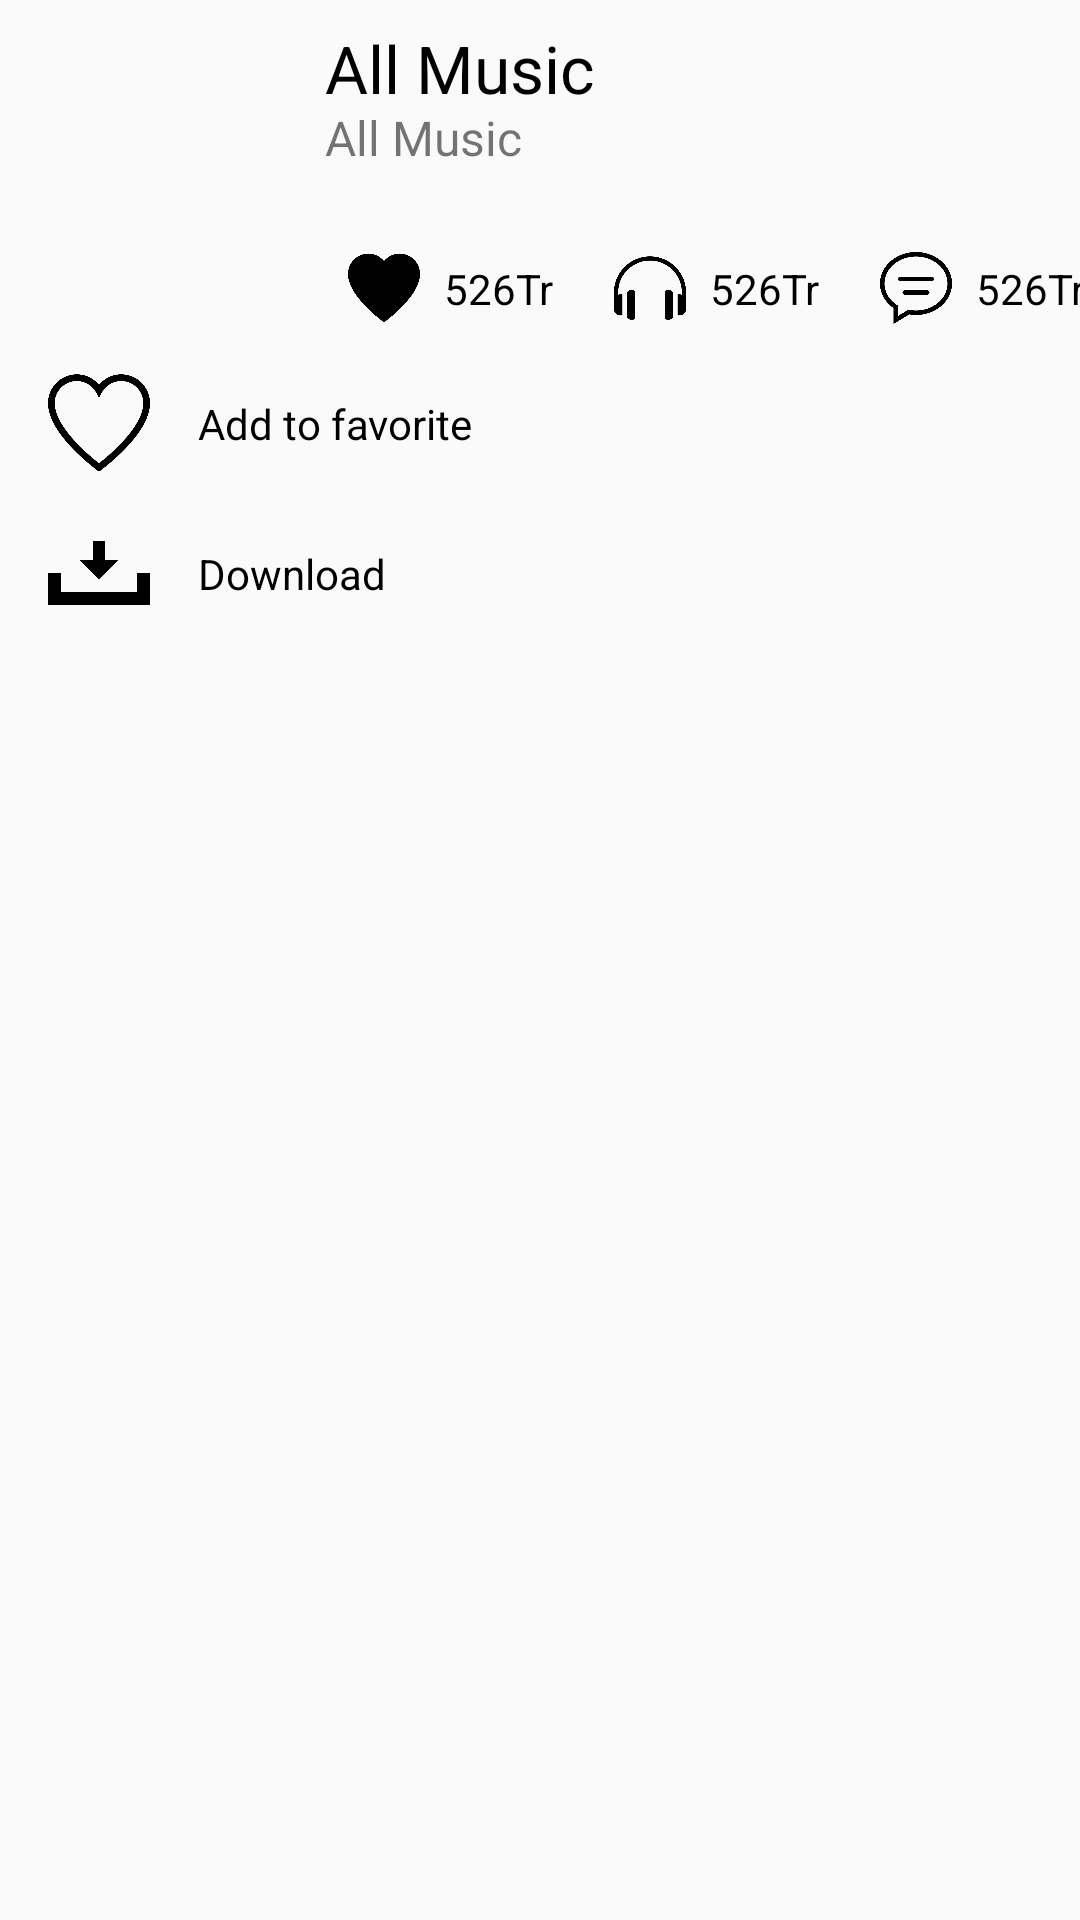

Locate icon controls on the screen. Image size 1080px×1920px, boxes as (x1, y1, x2, y2).
comment: (880, 252, 952, 324)
favorited: (348, 254, 420, 322)
headphones: (614, 256, 686, 320)
